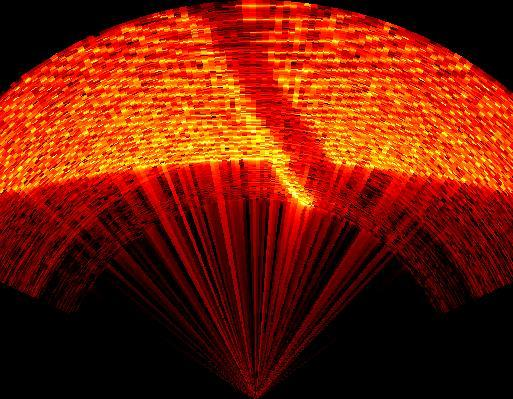pipe: (178, 4, 344, 212)
